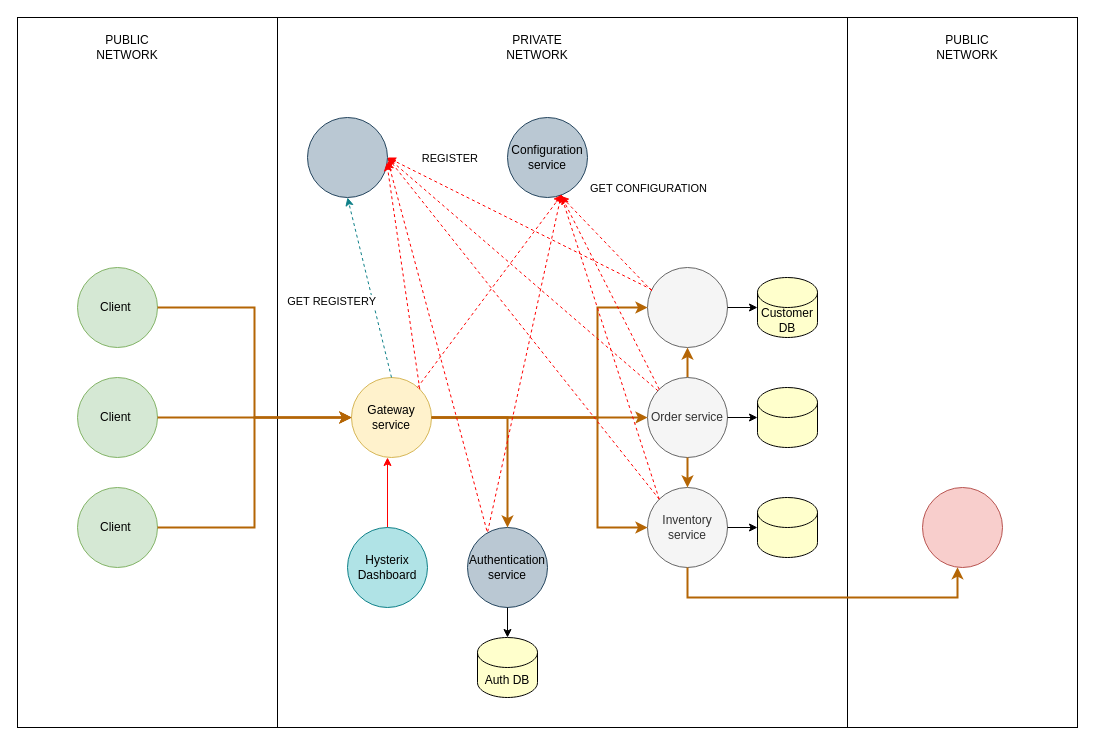
Some shapes in this 1095 by 745 pixel diagram are drawn without their labels. The shapes that lost their labels are listed below. From the top down, each one's centre as x and y in pixels, then its label:
At (347,157): "Discovery service".
At (687,307): "Customer service".
At (787,417): "Order DB".
At (787,527): "Inventory DB".
At (962,527): "Exchange API".
